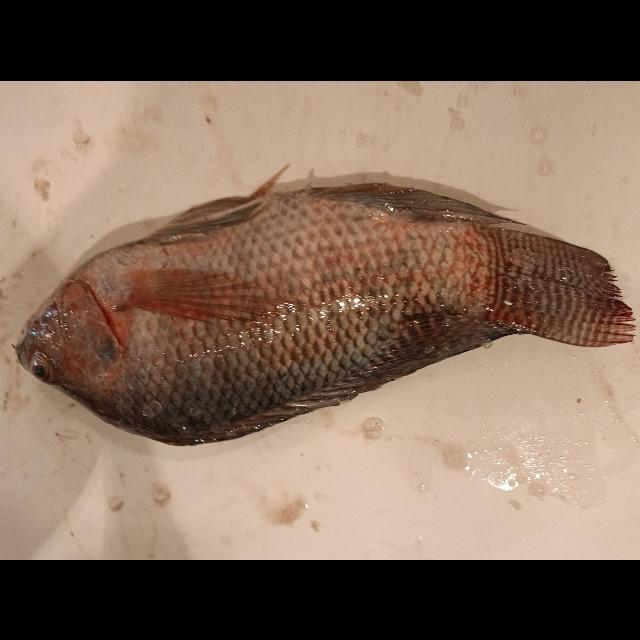Tilapia: (13, 160, 634, 446)
